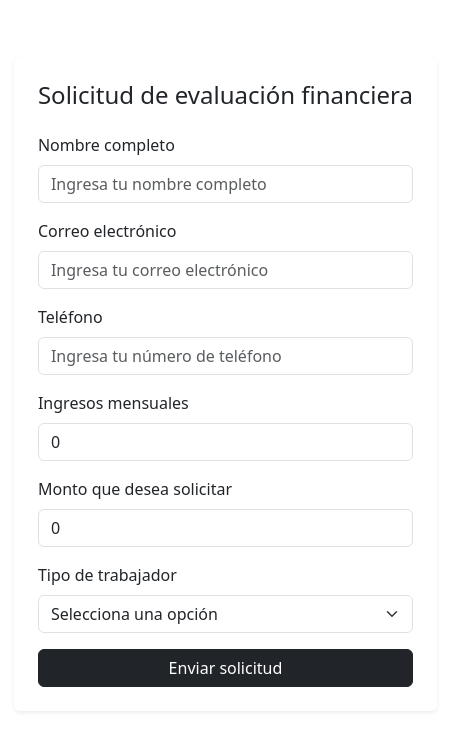
Test case: Envío correcto del formulario › muestra la previsualización al completar todos los campos correctamente
The image size is (452, 739).
Type "Juan Pérez" into the field with id "nombre" at (225, 184), box 38,165 -> 413,203
Type "juan@correo.com" into the field with id "correo" at (225, 270), box 38,251 -> 413,289
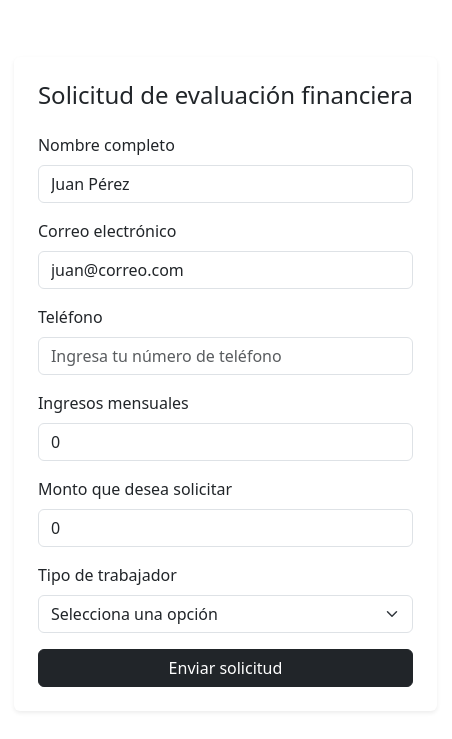
Type "912345678" into the field with id "telefono" at (225, 356), box 38,337 -> 413,375
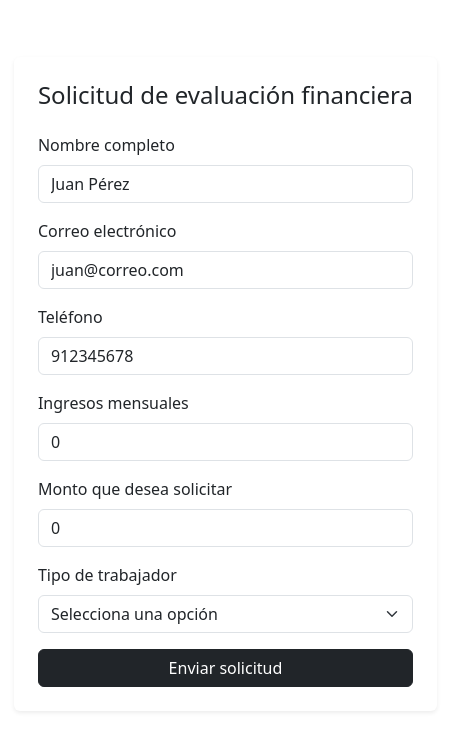
Replace the text in the number field with id "ingresos" with "1500000" at (225, 442), box 38,423 -> 413,461
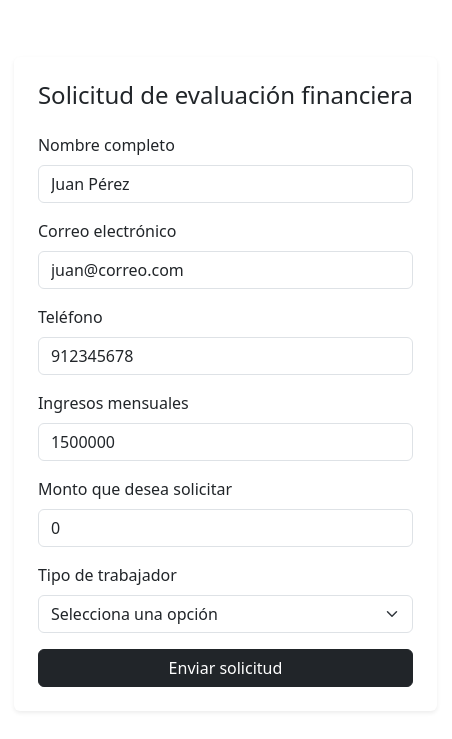
Replace the text in the number field with id "monto" with "500000" at (225, 528), box 38,509 -> 413,547
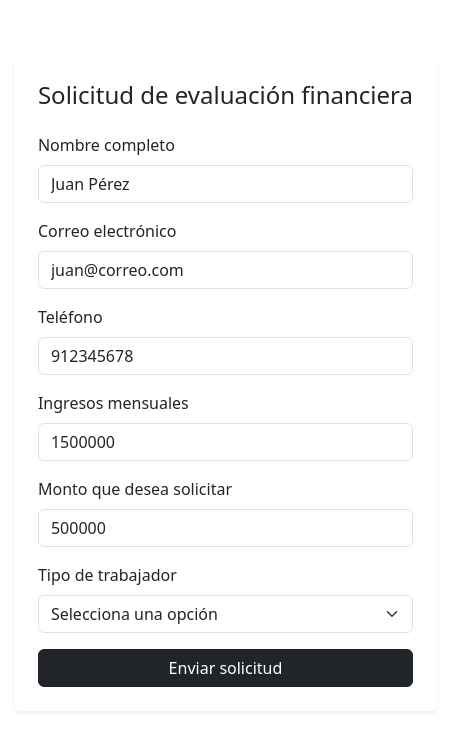
Select "Dependiente" in the dropdown with id "trabajador" at (225, 614), box 38,595 -> 413,633
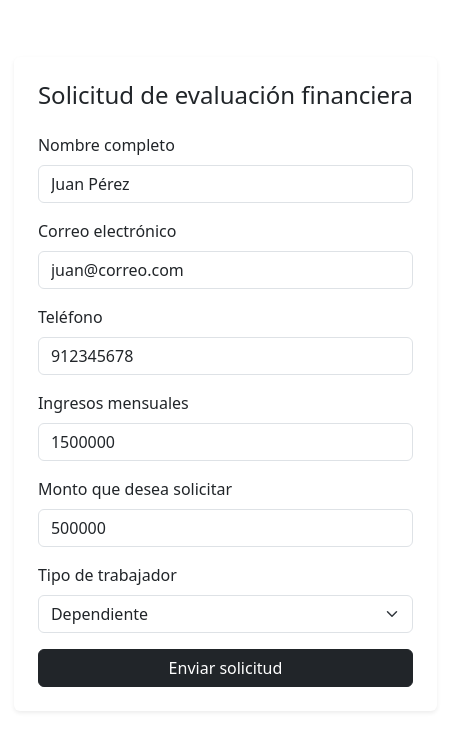
Click the button "Enviar solicitud" at (225, 668), box 38,649 -> 413,687
(page scrolled)
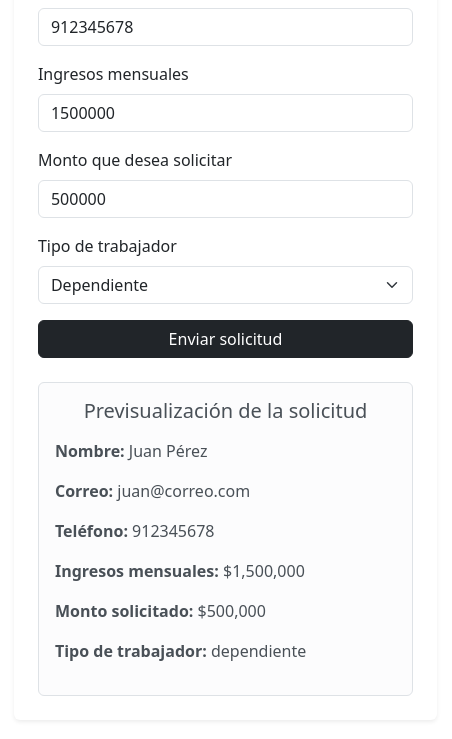
Expected: the element with class "alert" is shown, 38,382 -> 413,696
Expected: the text "Previsualización de la solicitud" is shown, 84,397 -> 367,424
